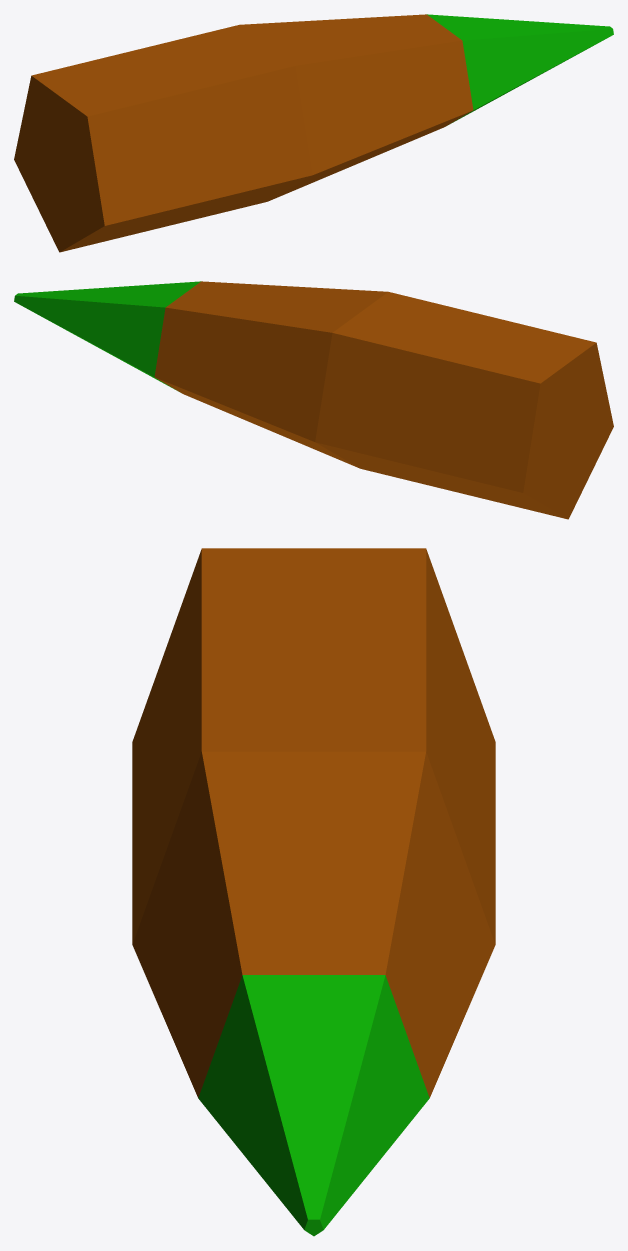
The model's file is musket bullet green.FBX.
3 renders of one model, top to bottom at view 1: azimuth 30°, elevation 25°; view 2: azimuth 150°, elevation 25°; view 3: azimuth 270°, elevation 25°, orthographic. The views are drawn at different scales.
Parts seen in each view (by area): view 1: Musket bullet, Musket byllet tip; view 2: Musket bullet, Musket byllet tip; view 3: Musket bullet, Musket byllet tip.
Part boxes in pixels (bbox=[...]): Musket bullet: bbox=[14, 14, 473, 252]; Musket byllet tip: bbox=[427, 14, 613, 123]; Musket bullet: bbox=[154, 281, 613, 519]; Musket byllet tip: bbox=[14, 281, 200, 390]; Musket bullet: bbox=[132, 548, 495, 1097]; Musket byllet tip: bbox=[198, 975, 429, 1236].
Bounding box in the file's own units: 16.4 × 4.44 × 4.67.
